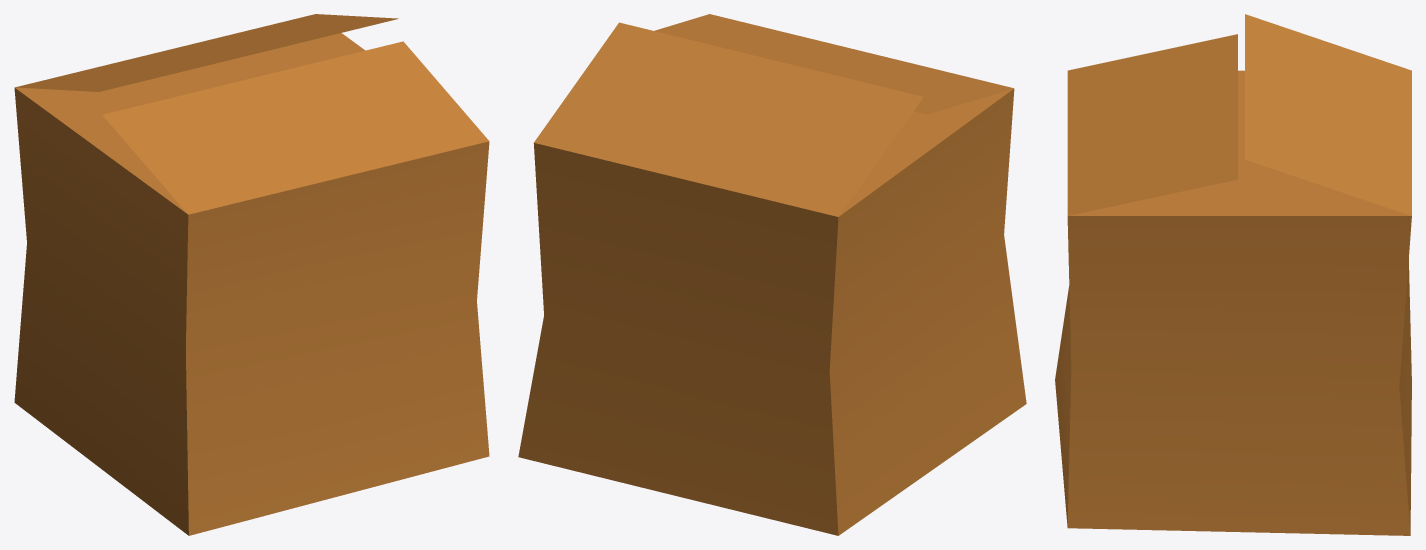
Rendered from ticket_box_cube.fbx.
3 views of the same model, side by side, from view 1: azimuth 30°, elevation 25°; view 2: azimuth 150°, elevation 25°; view 3: azimuth 270°, elevation 25° (orthographic). The views are drawn at different scales.
Visible parts, largest first — view 1: ticket_box_cube; view 2: ticket_box_cube; view 3: ticket_box_cube.
Boxes of the visible parts, bbox=[...] form: ticket_box_cube: bbox=[14, 14, 489, 535]; ticket_box_cube: bbox=[518, 14, 1026, 535]; ticket_box_cube: bbox=[1055, 14, 1411, 535].
Bounding box in the file's own units: 85.78 × 94.5 × 82.92.
